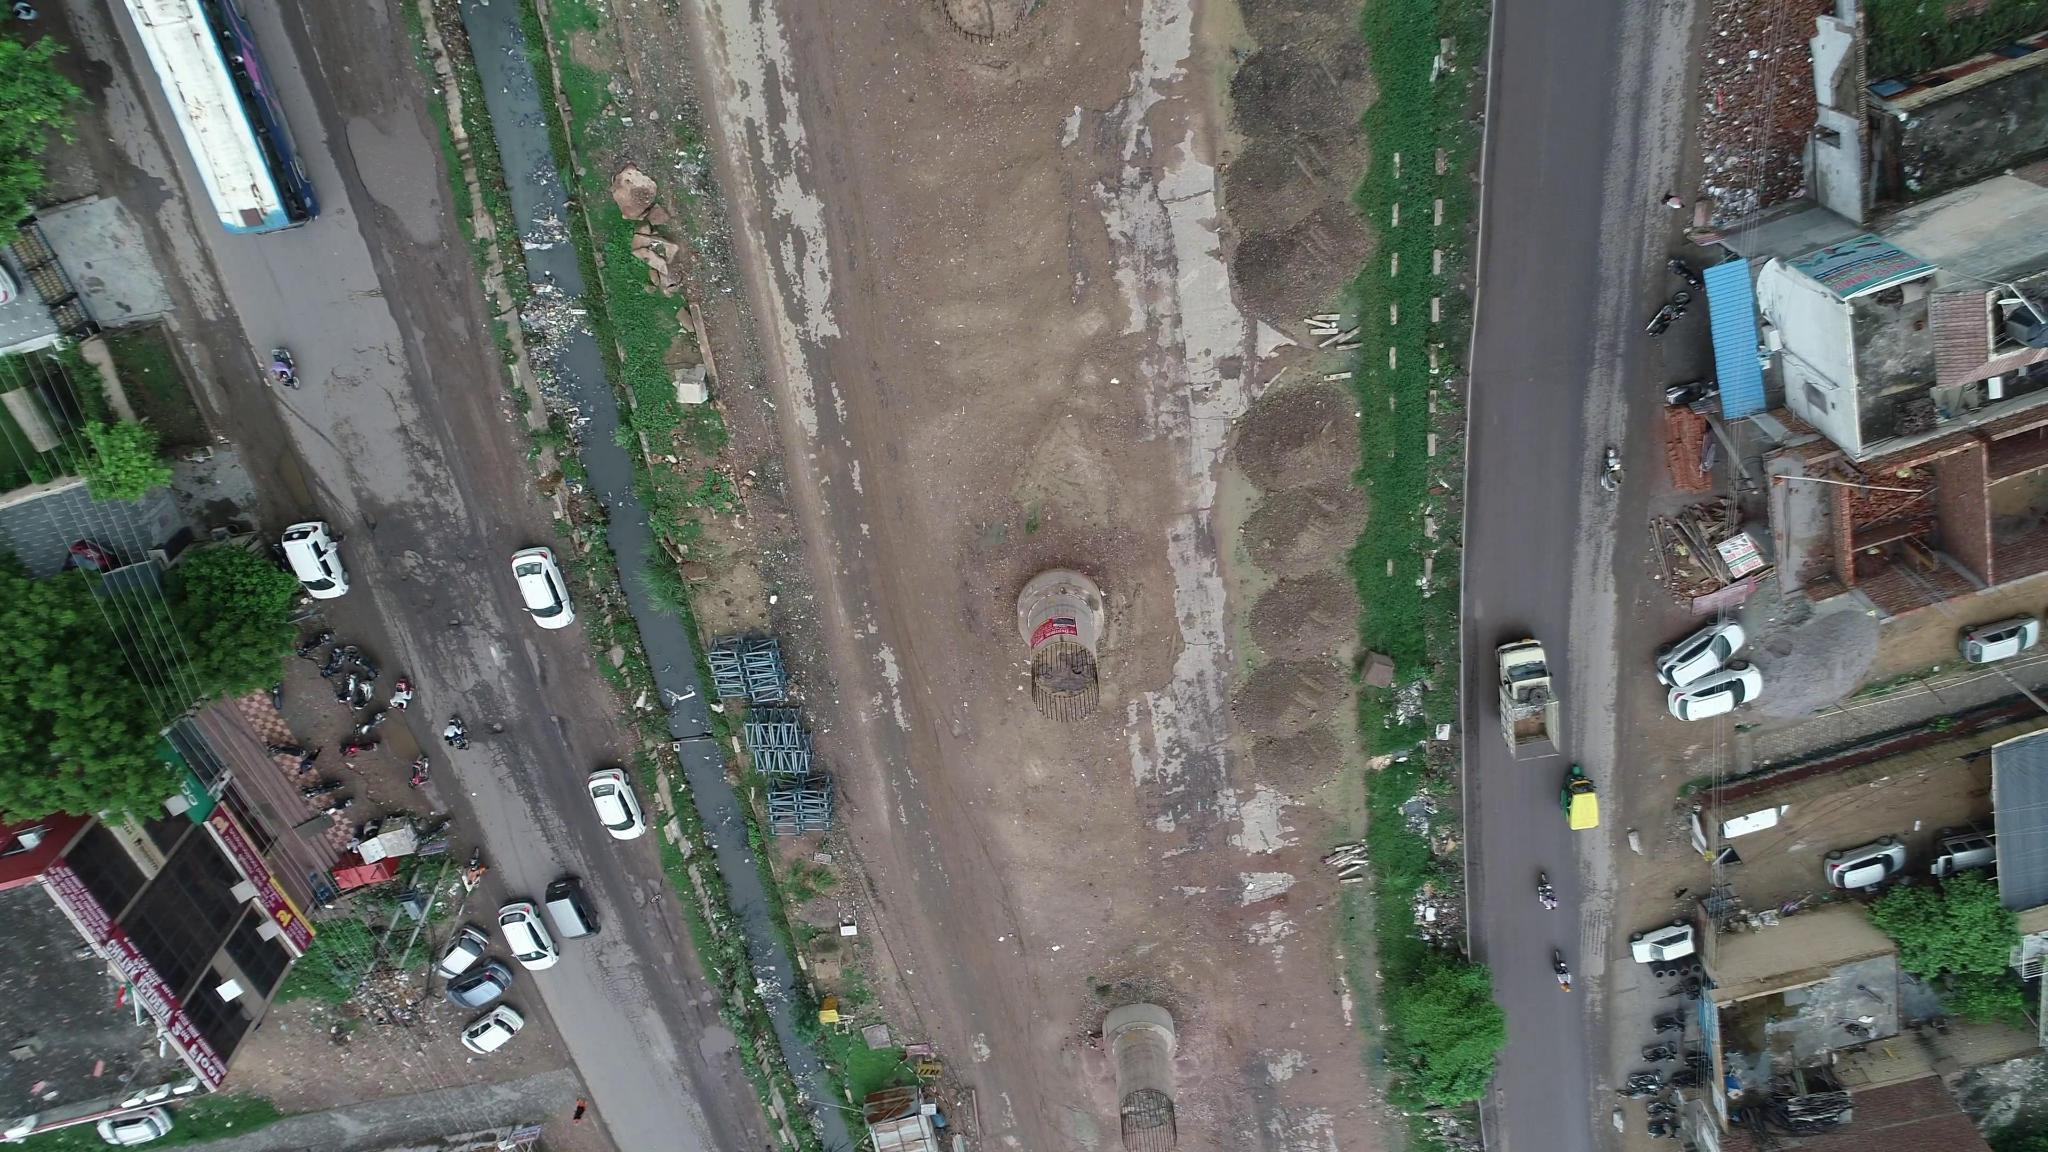Potholes: (340, 497, 428, 557), (414, 594, 491, 658), (475, 713, 527, 751)
